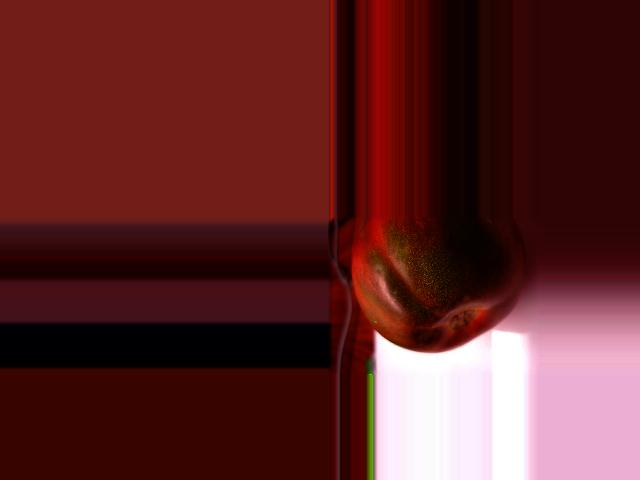tomato: (350, 216, 524, 352)
